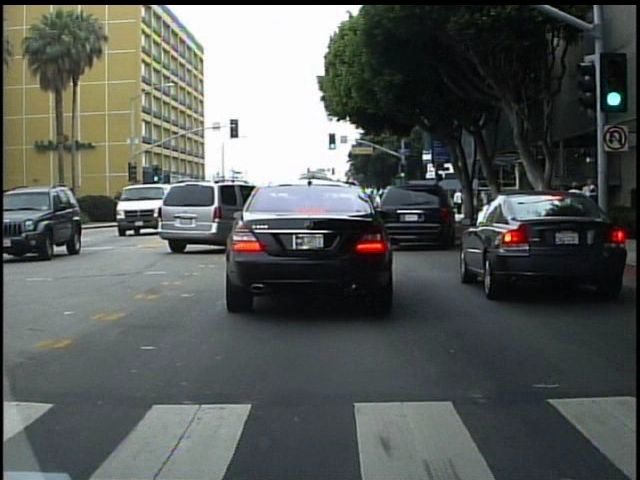person: (579, 173, 598, 233), (453, 186, 464, 216)
